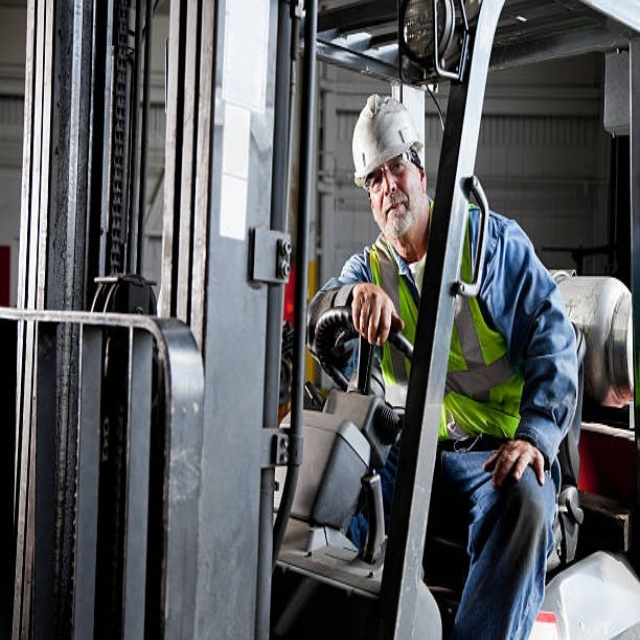Gafas: (365, 152, 416, 196)
Sin_guantes: (348, 281, 404, 346), (481, 439, 544, 491)
Sin_mascara: (380, 195, 412, 227)
